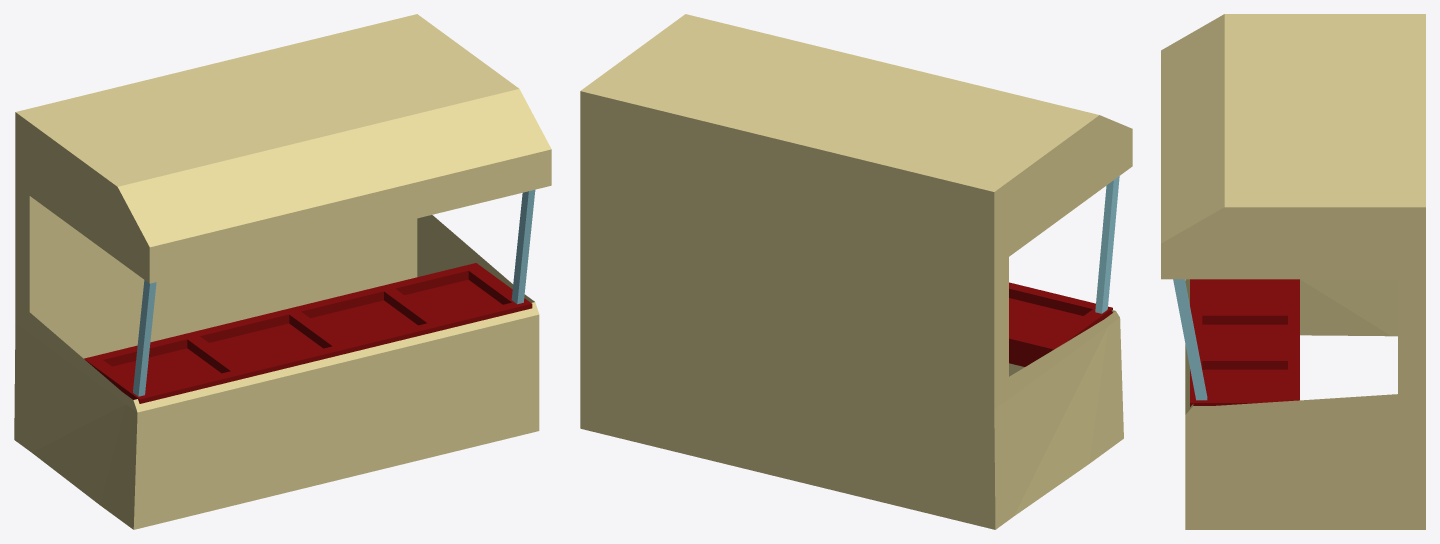
The model's file is basico.fbx.
3 views of the same model, side by side, from view 1: azimuth 30°, elevation 25°; view 2: azimuth 150°, elevation 25°; view 3: azimuth 270°, elevation 25° (orthographic). The views are drawn at different scales.
Visible parts, largest first — view 1: basico_2; view 2: basico_2; view 3: basico_2.
Boxes of the visible parts, left/top/right/bottom form: basico_2: left=14, top=14, right=551, bottom=529; basico_2: left=580, top=14, right=1132, bottom=529; basico_2: left=1161, top=14, right=1425, bottom=529.
Bounding box in the file's own units: 83.33 × 64.31 × 47.81.
